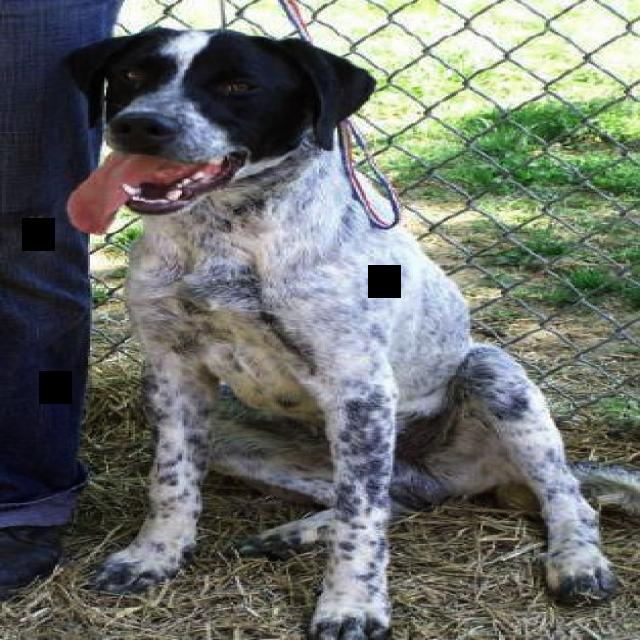adult_dog: (64, 18, 640, 640)
